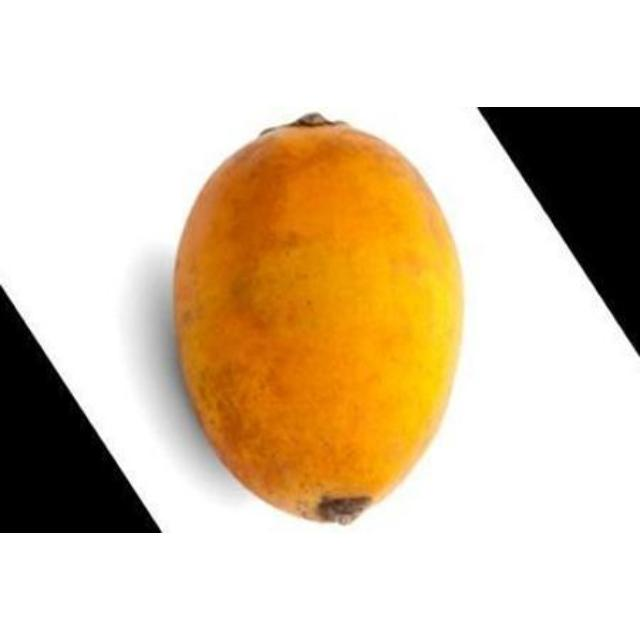good: (172, 114, 468, 527)
